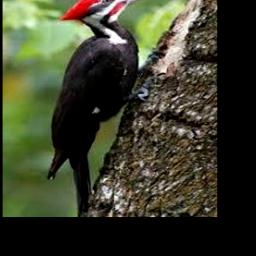Woodpecker: (48, 0, 159, 216)
